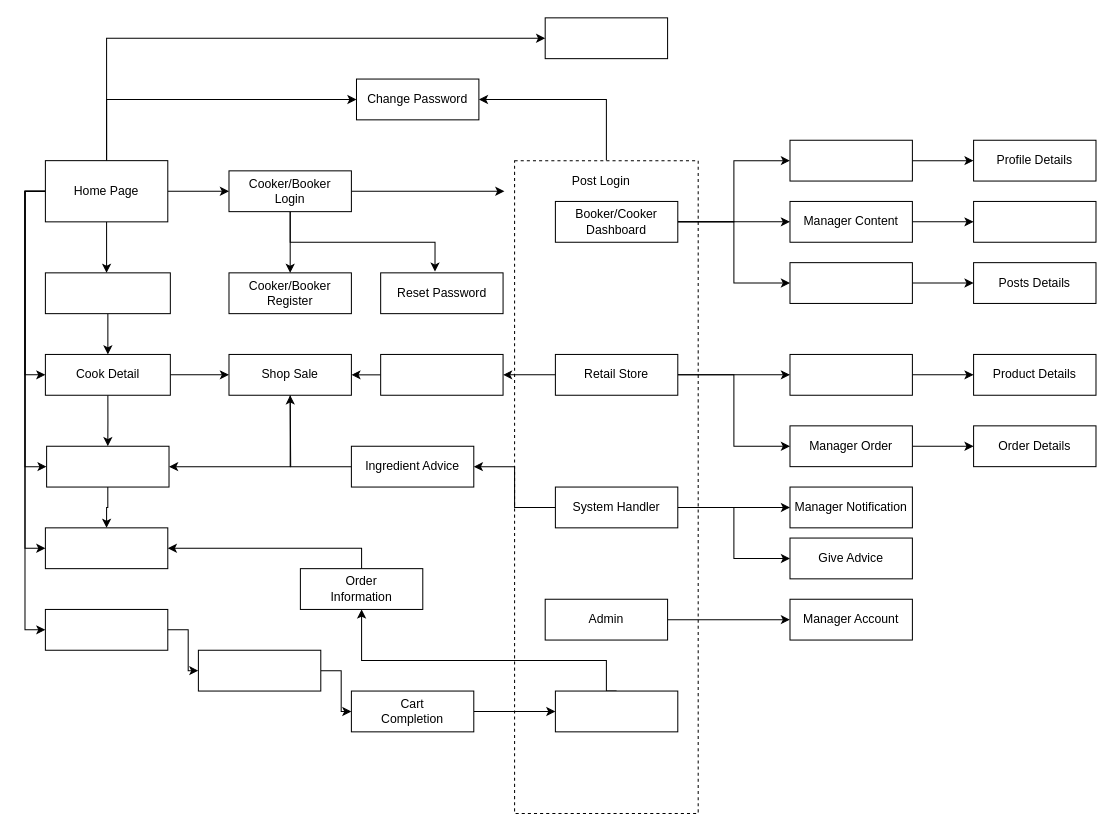
Some shapes in this 1114 by 831 pixel diagram are drawn without their labels. Here are the shapes that lost their labels. From the top down, the box of each, then its label:
(544, 17, 668, 59): Cooker/Booker Profile
(789, 139, 912, 181): Manager Profile
(973, 200, 1096, 242): Content Details
(44, 272, 170, 314): Cook List
(789, 262, 912, 303): Manager Posts
(380, 353, 503, 395): Ingredient List
(789, 353, 912, 395): Manager Product
(46, 445, 169, 487): Order
(44, 527, 168, 569): Feedback
(44, 608, 168, 650): Cart Details
(197, 649, 321, 691): Cart Contact
(554, 690, 678, 732): My Orders
